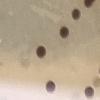brown: (44, 78, 57, 96), (82, 84, 95, 100), (69, 7, 82, 22), (58, 24, 70, 40), (91, 74, 100, 92), (36, 44, 46, 58), (82, 0, 93, 9), (89, 0, 97, 5), (97, 66, 100, 76)
